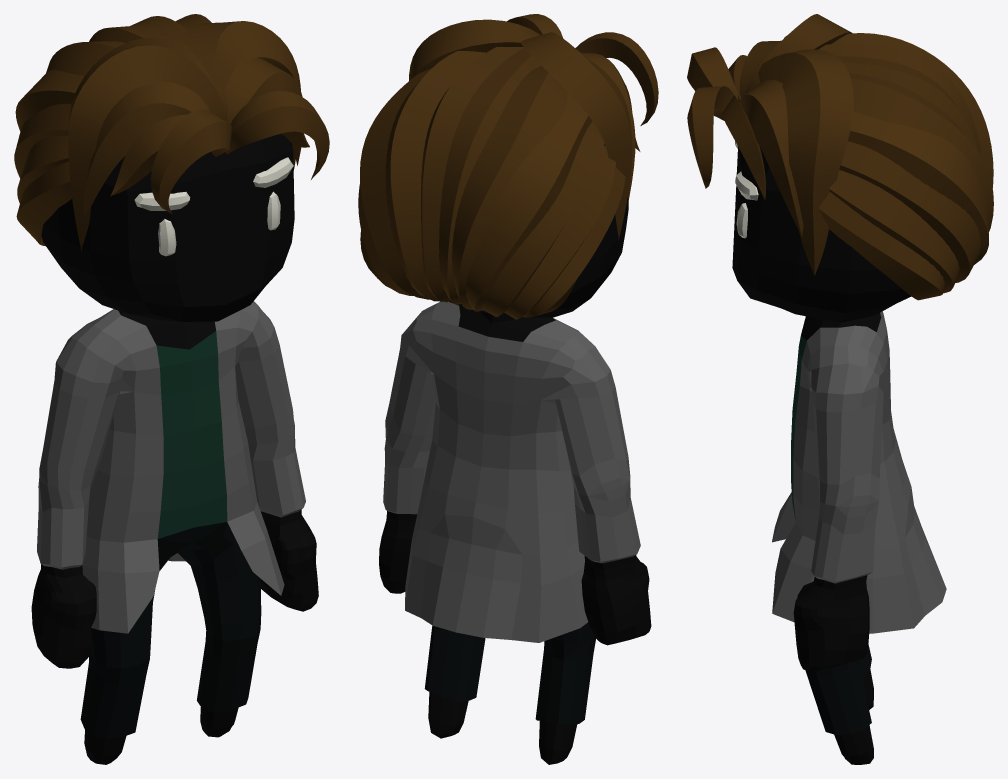
Rendered from Doctor_Male_Young.obj.
3 renders of one model, left to right at view 1: azimuth 30°, elevation 25°; view 2: azimuth 150°, elevation 25°; view 3: azimuth 270°, elevation 25°, orthographic. The views are drawn at different scales.
Visible parts, largest first — view 1: Body_CUNurbsPath.010; view 2: Body_CUNurbsPath.010; view 3: Body_CUNurbsPath.010.
Part boxes in pixels (left/top/right/bottom): Body_CUNurbsPath.010: left=14, top=14, right=329, bottom=764; Body_CUNurbsPath.010: left=358, top=14, right=658, bottom=764; Body_CUNurbsPath.010: left=687, top=14, right=993, bottom=764.
Bounding box in the file's own units: 1.29 × 3.29 × 1.31.
